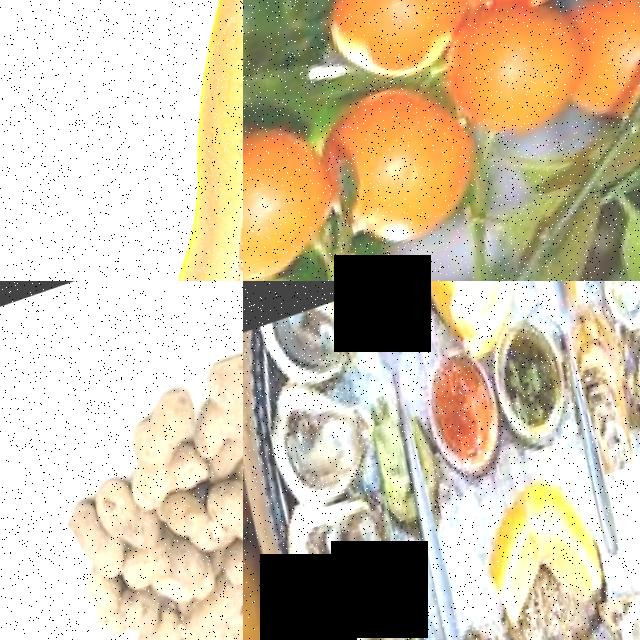lemon: (517, 471, 611, 619), (477, 508, 556, 631), (431, 281, 537, 361)
orange: (312, 66, 499, 272), (451, 0, 607, 158), (243, 107, 356, 281), (308, 0, 477, 101), (566, 0, 640, 137)
oysters: (258, 373, 388, 518), (278, 497, 406, 640), (251, 297, 368, 401), (328, 603, 439, 640), (582, 281, 640, 347)
pawpaw: (61, 0, 243, 281)
peanuts: (120, 386, 210, 481), (89, 471, 152, 562), (62, 496, 120, 590), (129, 455, 214, 517), (203, 474, 243, 563), (200, 342, 243, 424)
